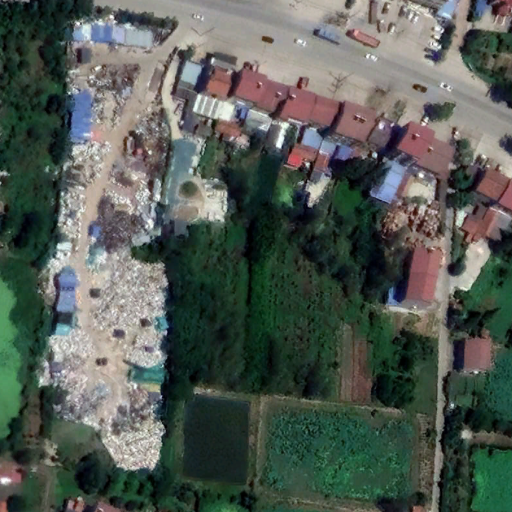msw: (43, 138, 171, 470)
